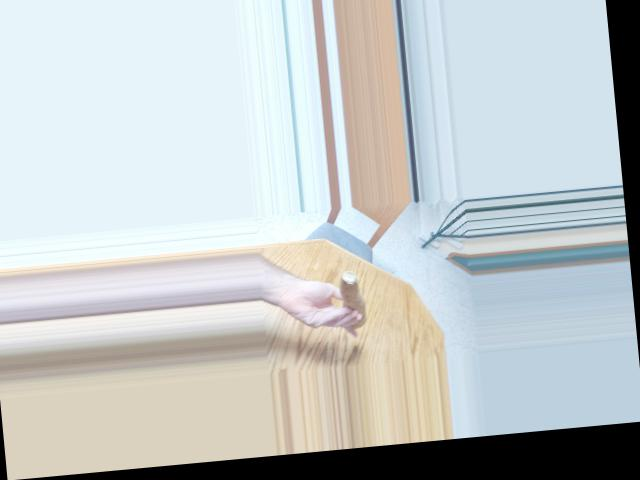sweet_potato: (337, 279, 367, 326)
